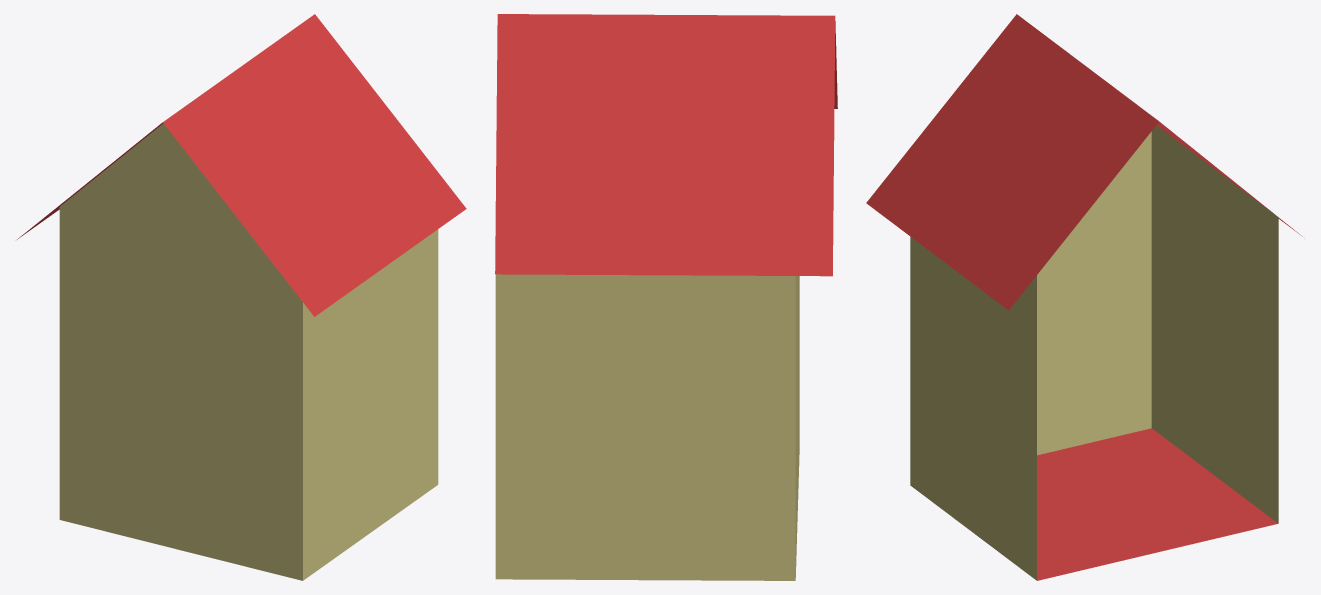
The picture shows the model from 3 angles, left to right: view 1: azimuth 30°, elevation 25°; view 2: azimuth 150°, elevation 25°; view 3: azimuth 270°, elevation 25°; orthographic projection. The views are drawn at different scales.
Size of the model in its own units: 12.98 by 13.57 by 14.62.
